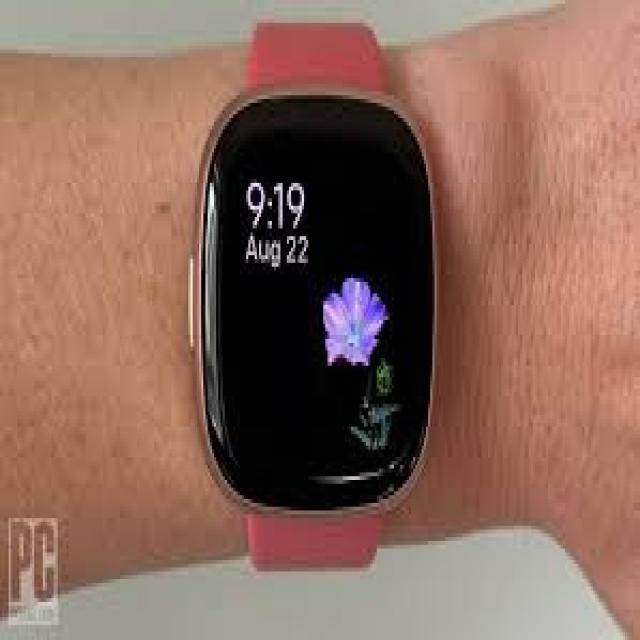objects: (189, 30, 441, 572)
